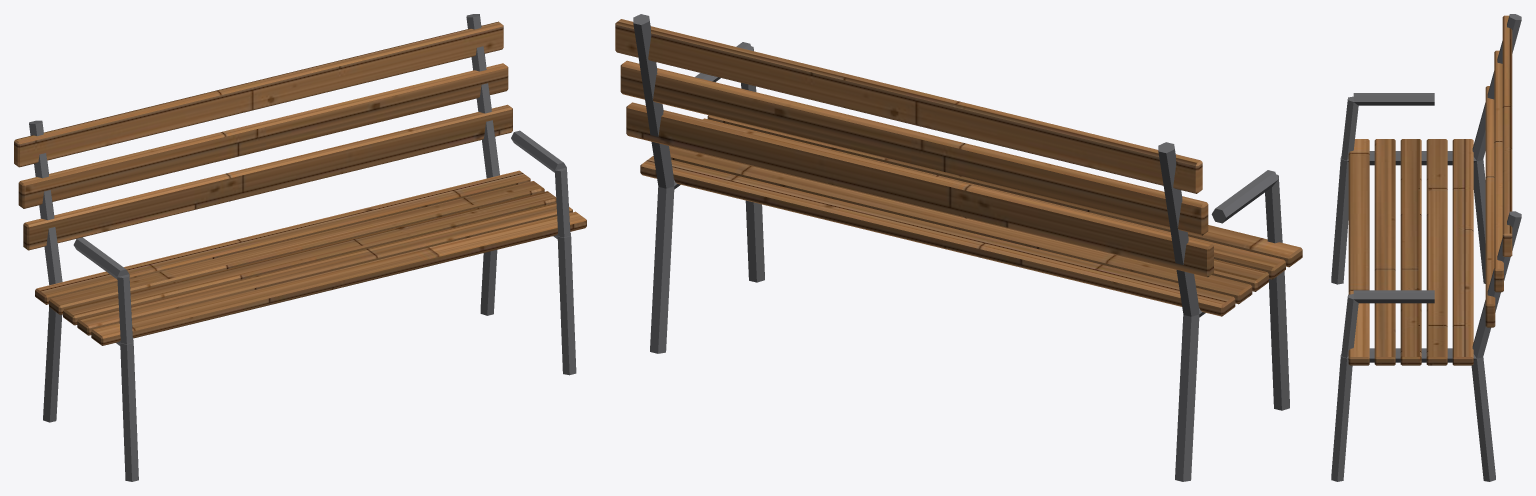
File: garden_bench.glb
3 renders of one model, left to right at view 1: azimuth 30°, elevation 25°; view 2: azimuth 150°, elevation 25°; view 3: azimuth 270°, elevation 25°, orthographic. The views are drawn at different scales.
Visible parts, largest first — view 1: garden_bench_oak, garden_bench_iron; view 2: garden_bench_oak, garden_bench_iron; view 3: garden_bench_oak, garden_bench_iron.
Boxes of the visible parts, bbox=[...] form: garden_bench_oak: bbox=[14, 21, 586, 345]; garden_bench_iron: bbox=[29, 14, 576, 481]; garden_bench_oak: bbox=[615, 19, 1302, 316]; garden_bench_iron: bbox=[633, 14, 1289, 481]; garden_bench_oak: bbox=[1348, 15, 1512, 365]; garden_bench_iron: bbox=[1331, 14, 1521, 481].
Bounding box in the file's own units: 1.6 × 0.9064 × 0.5875.
Materials: 2 (1 with a texture image).
